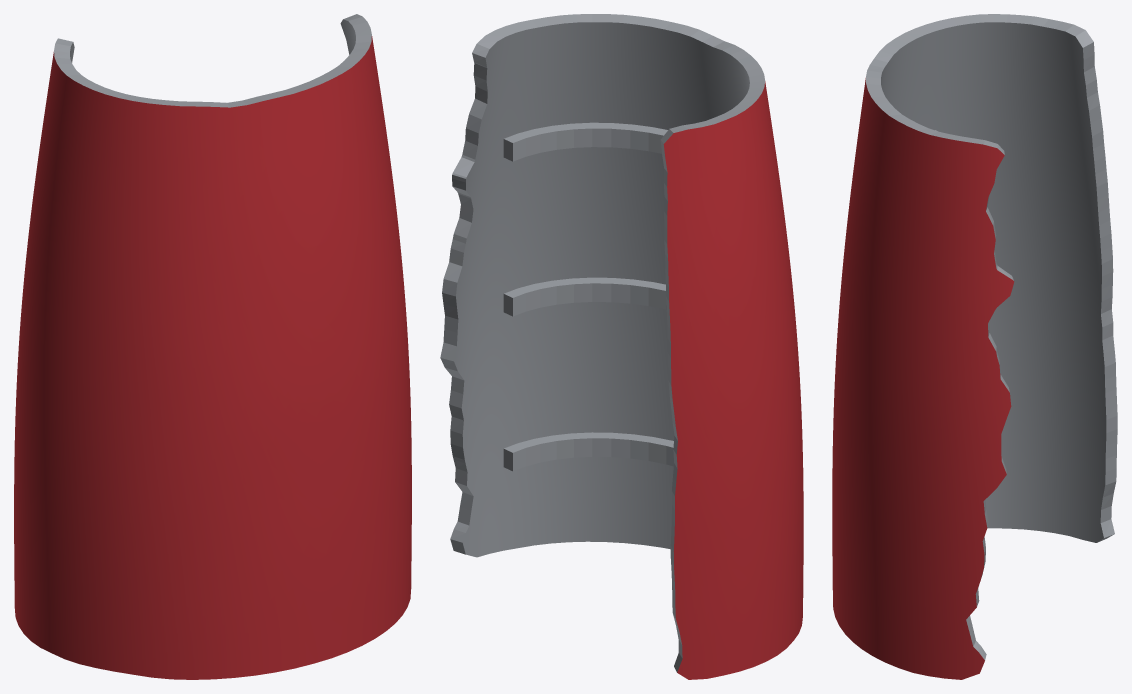
Rendered from baymax_forearm_fragment.glb.
3 renders of one model, left to right at view 1: azimuth 30°, elevation 25°; view 2: azimuth 150°, elevation 25°; view 3: azimuth 270°, elevation 25°, orthographic. The views are drawn at different scales.
Visible parts, largest first — view 1: baymax_forearm_fragment; view 2: baymax_forearm_fragment; view 3: baymax_forearm_fragment.
Boxes of the visible parts, box(x1,y1,x2,y2) form: baymax_forearm_fragment: box(14, 14, 411, 679); baymax_forearm_fragment: box(440, 14, 803, 679); baymax_forearm_fragment: box(832, 14, 1117, 679).
Bounding box in the file's own units: 0.4605 × 0.693 × 0.3416.
